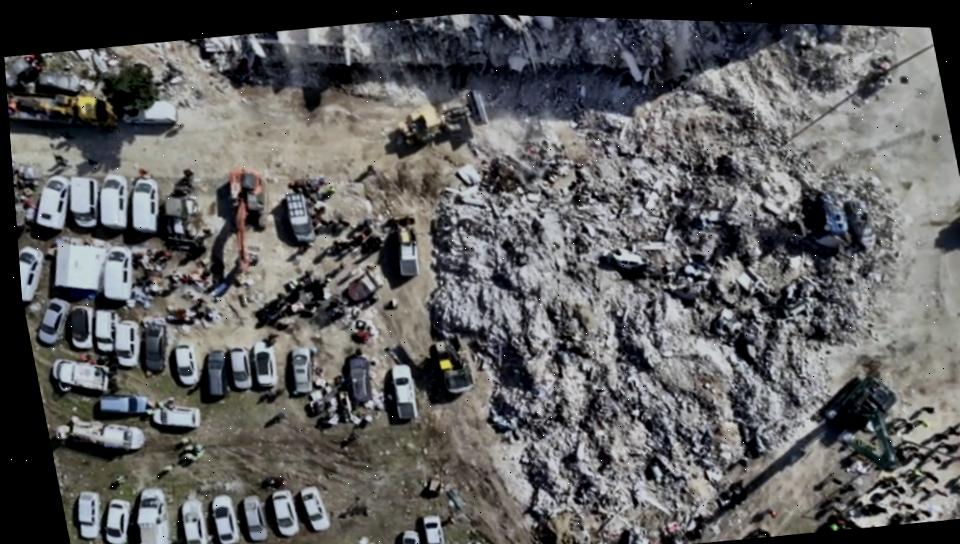kapali: (338, 79, 911, 195)
